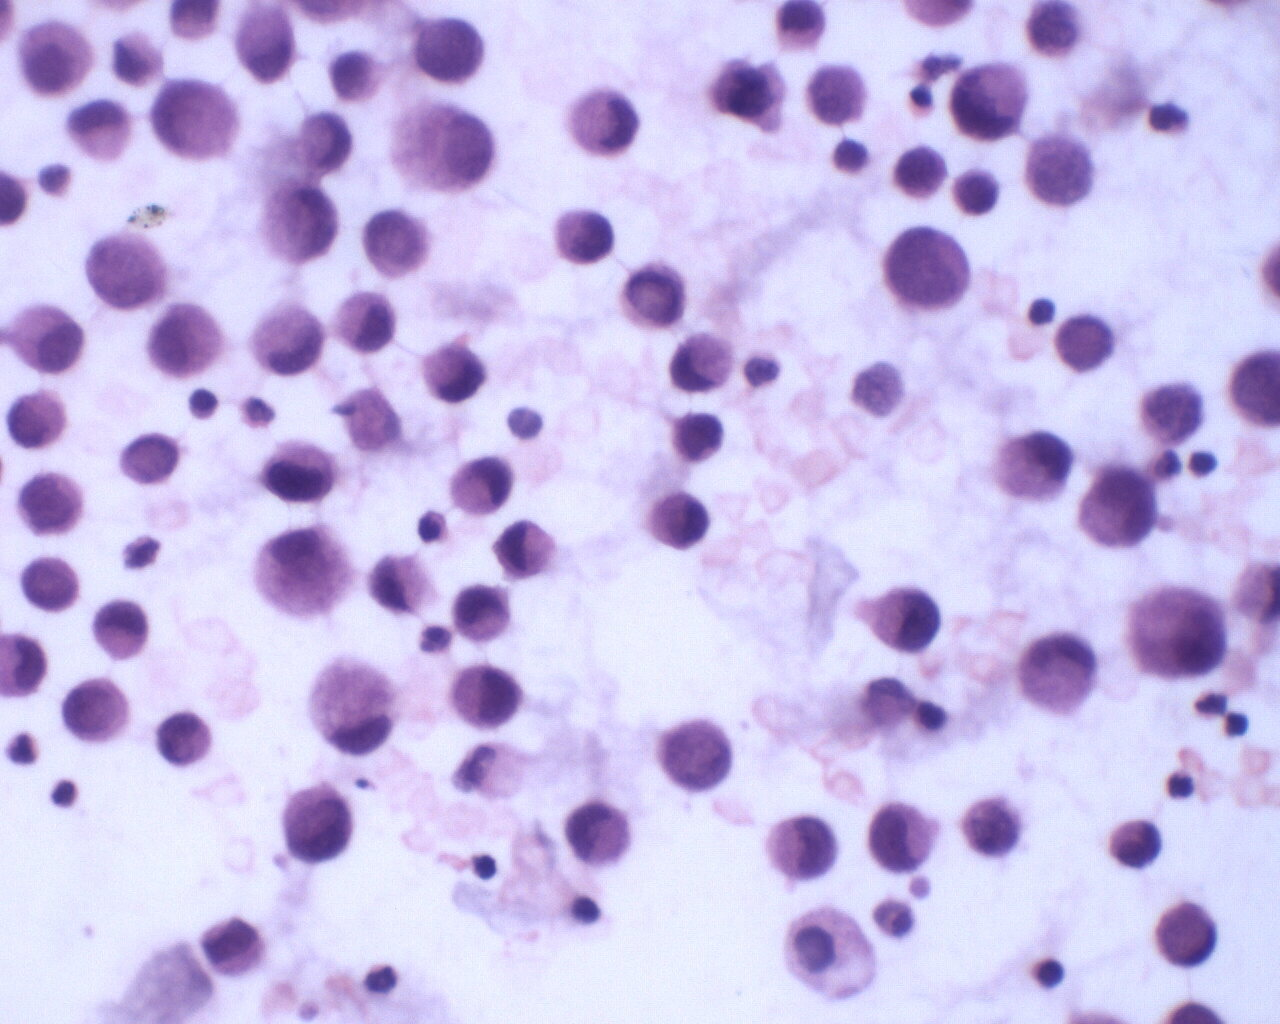ab: (1121, 577, 1231, 682), (883, 218, 976, 318), (948, 59, 1034, 148), (83, 227, 172, 312), (1073, 469, 1161, 553), (277, 776, 358, 866), (708, 55, 791, 138), (360, 203, 439, 289), (861, 799, 944, 876), (616, 262, 700, 335), (409, 13, 489, 88), (866, 582, 942, 656), (256, 440, 340, 507), (59, 676, 136, 748), (13, 469, 88, 540), (17, 551, 87, 616), (645, 488, 709, 556), (959, 796, 1025, 861), (889, 138, 952, 205), (553, 205, 616, 270), (154, 705, 213, 772)
histo: (304, 655, 409, 766), (252, 523, 360, 626)
lymph: (1031, 955, 1071, 992)
meso: (11, 16, 98, 104), (5, 302, 89, 375)
neutro: (360, 961, 405, 999)
